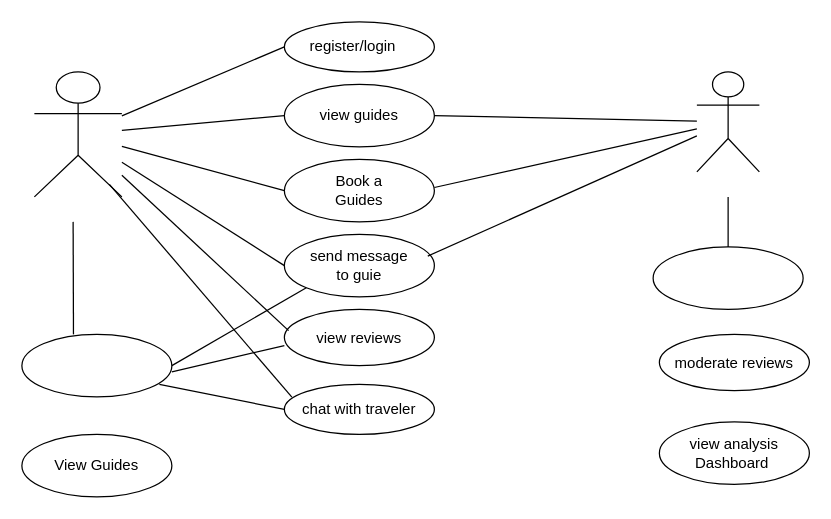
Image size: 831x519. Some labels were removed from this diagram. Here are the shapes that lost their labels. From the top down, the centre of each, then its label:
(x=77, y=134): Traveler
(x=727, y=121): Admin
(x=727, y=277): Approve / Remove Users
(x=96, y=365): Login/ Register
